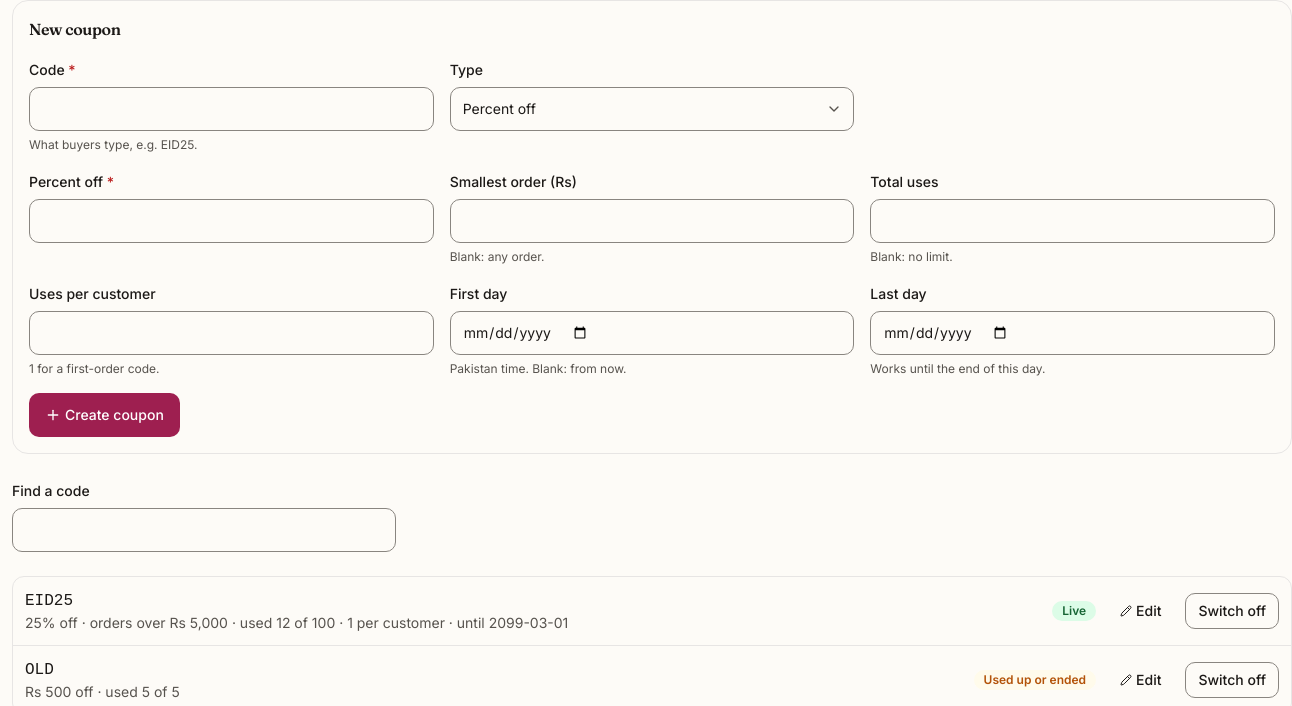
Test case: CouponManager › creates a first-order coupon in upper case with rupees as paisa
expect the text "EID25" is shown: met, box [25,592,73,610]
Type "welcome10" into the field labelled "Code *" at point(231, 109), box [29,87,434,131]
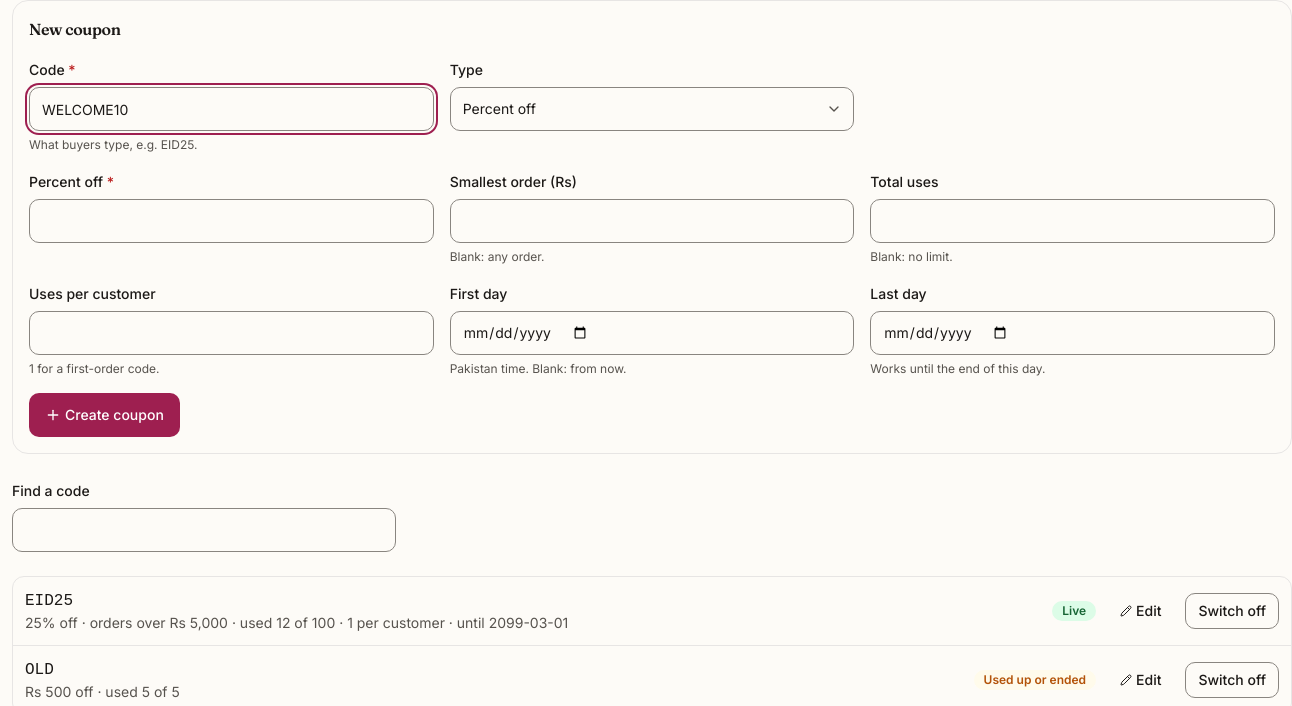
Type "10" into the field labelled "Percent off *" at point(231, 221), box [29,199,434,243]
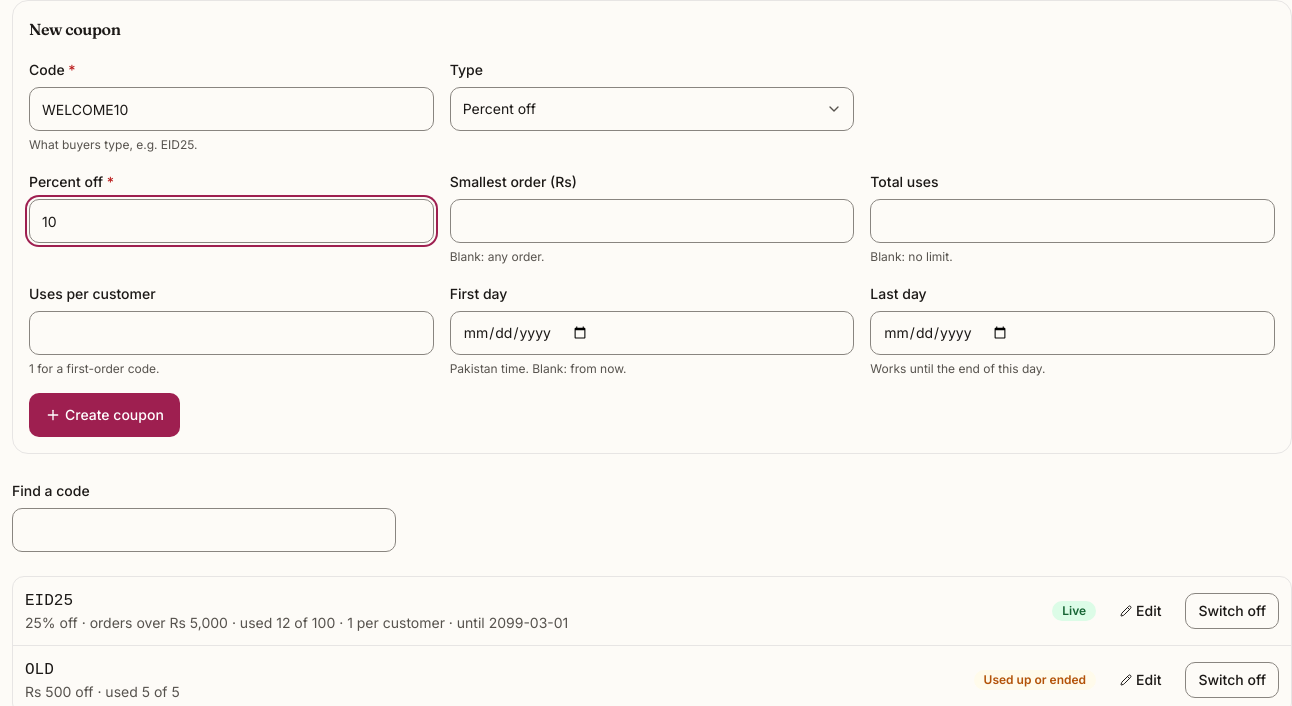
Type "2000" into the field labelled "Smallest order (Rs)" at point(652, 221), box [450,199,854,243]
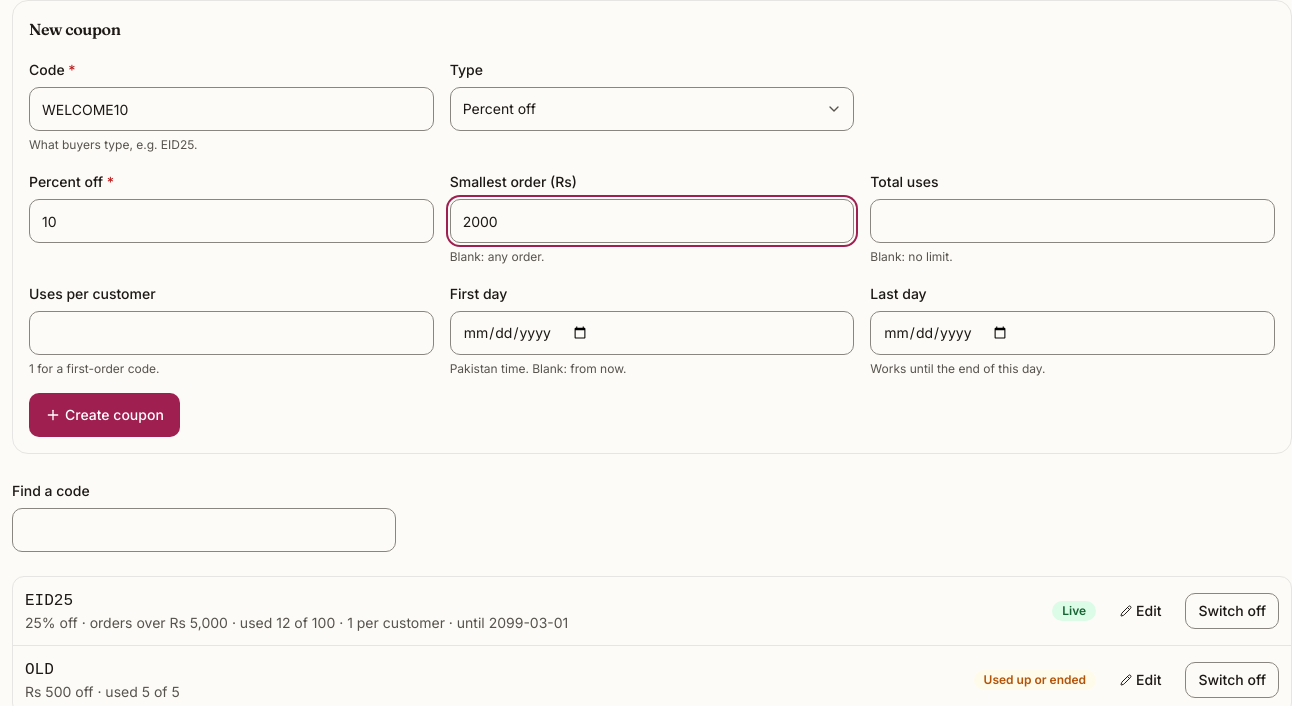
Type "1" into the field labelled "Uses per customer" at point(231, 333), box [29,311,434,355]
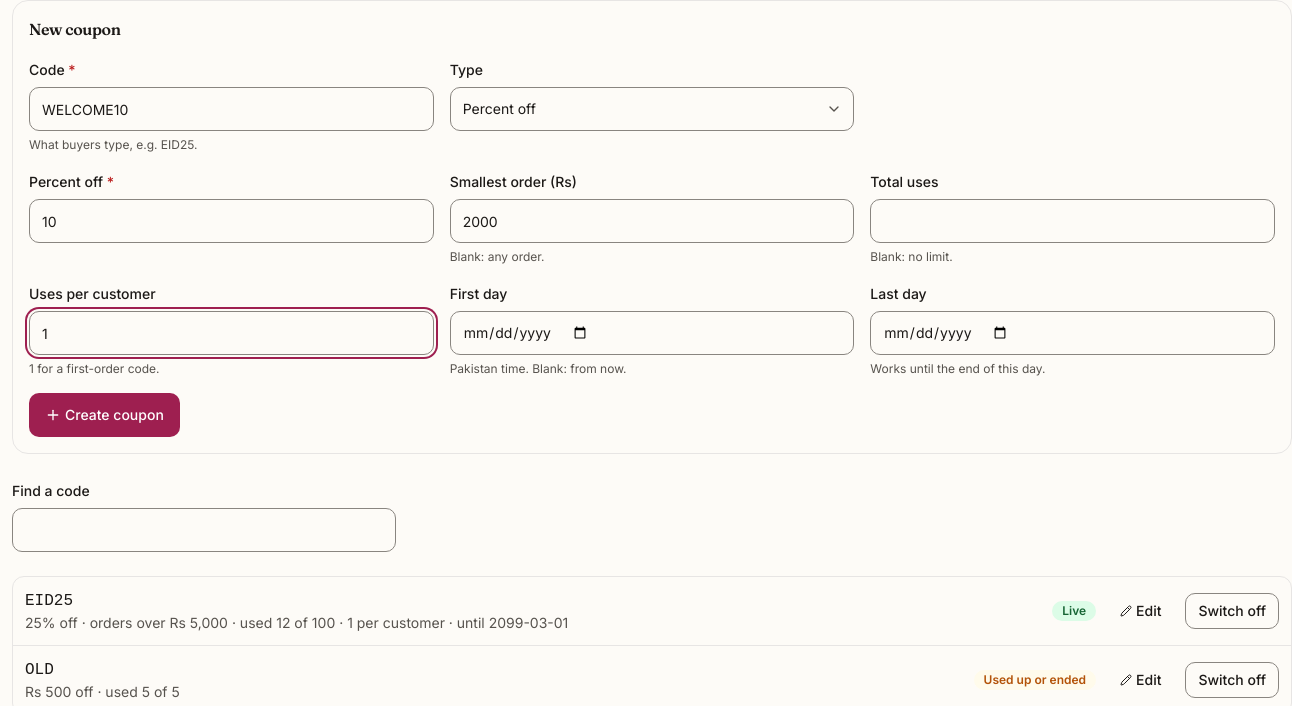
Click the button "Create coupon" at point(104, 415), box [29,393,180,437]
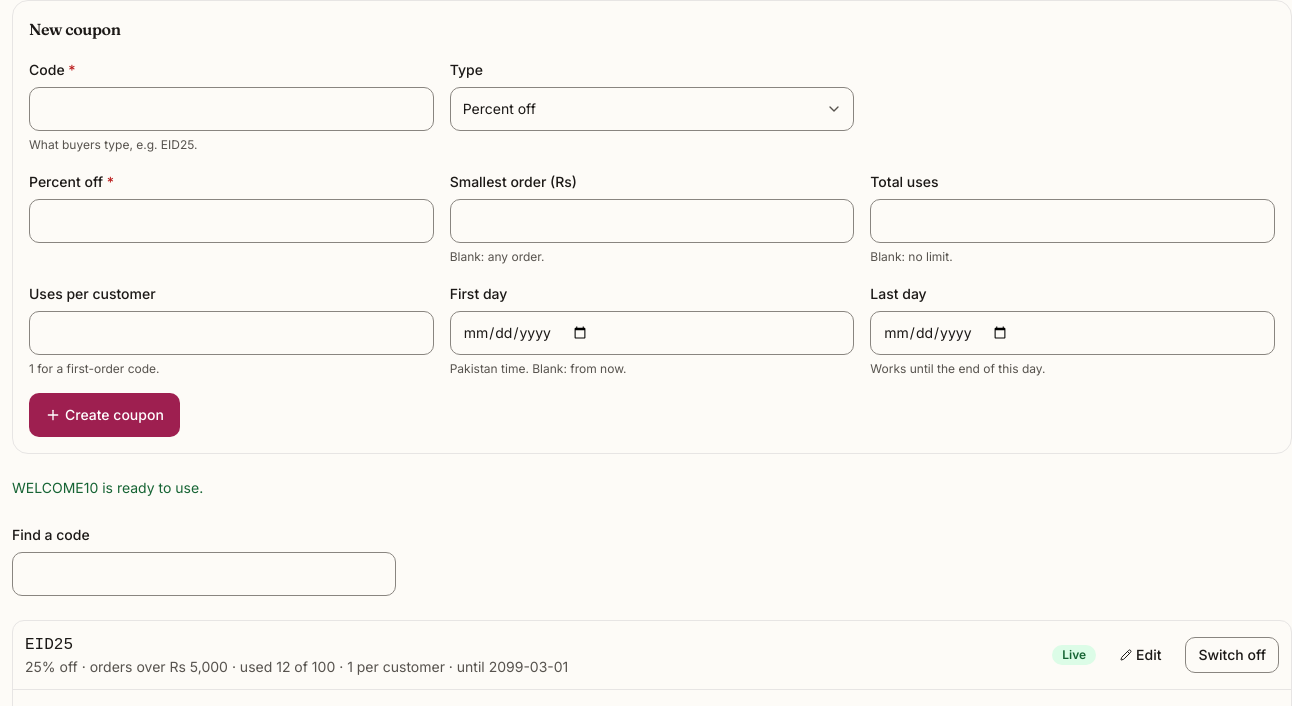
expect the text "WELCOME10 is ready to use." is shown: met, box [12,479,203,496]
